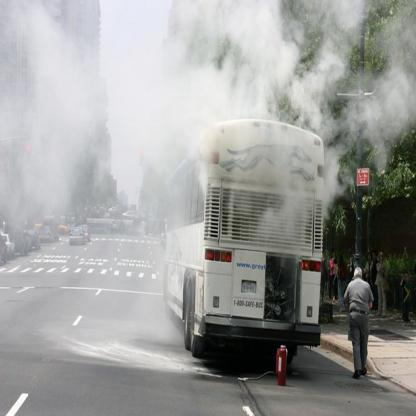Bus: (159, 117, 320, 358)
